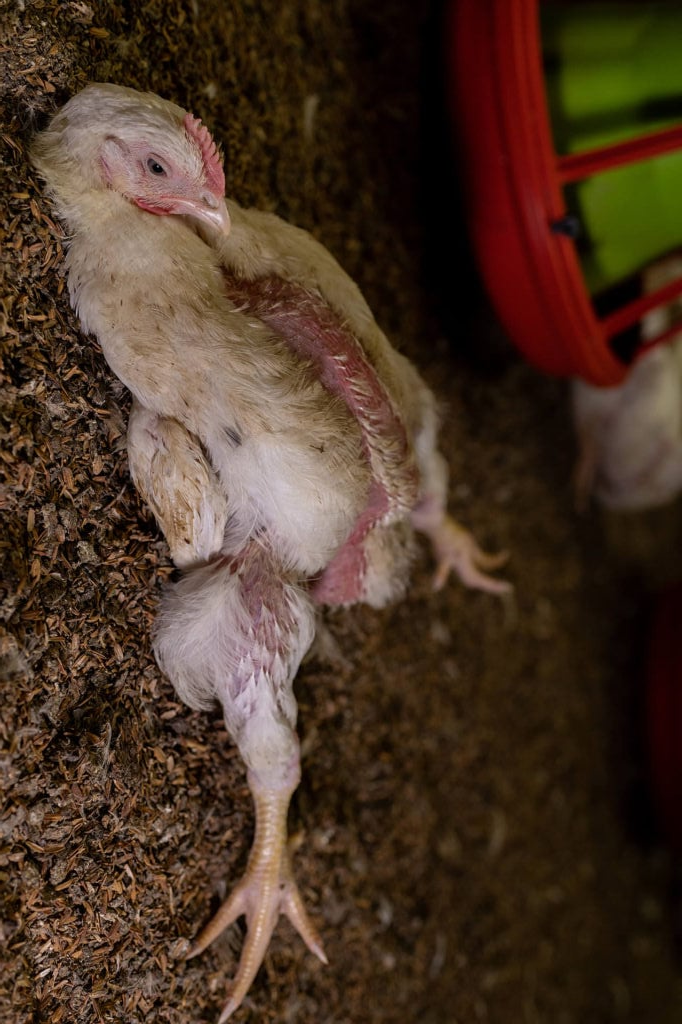Unhealthy: (28, 57, 515, 991)
